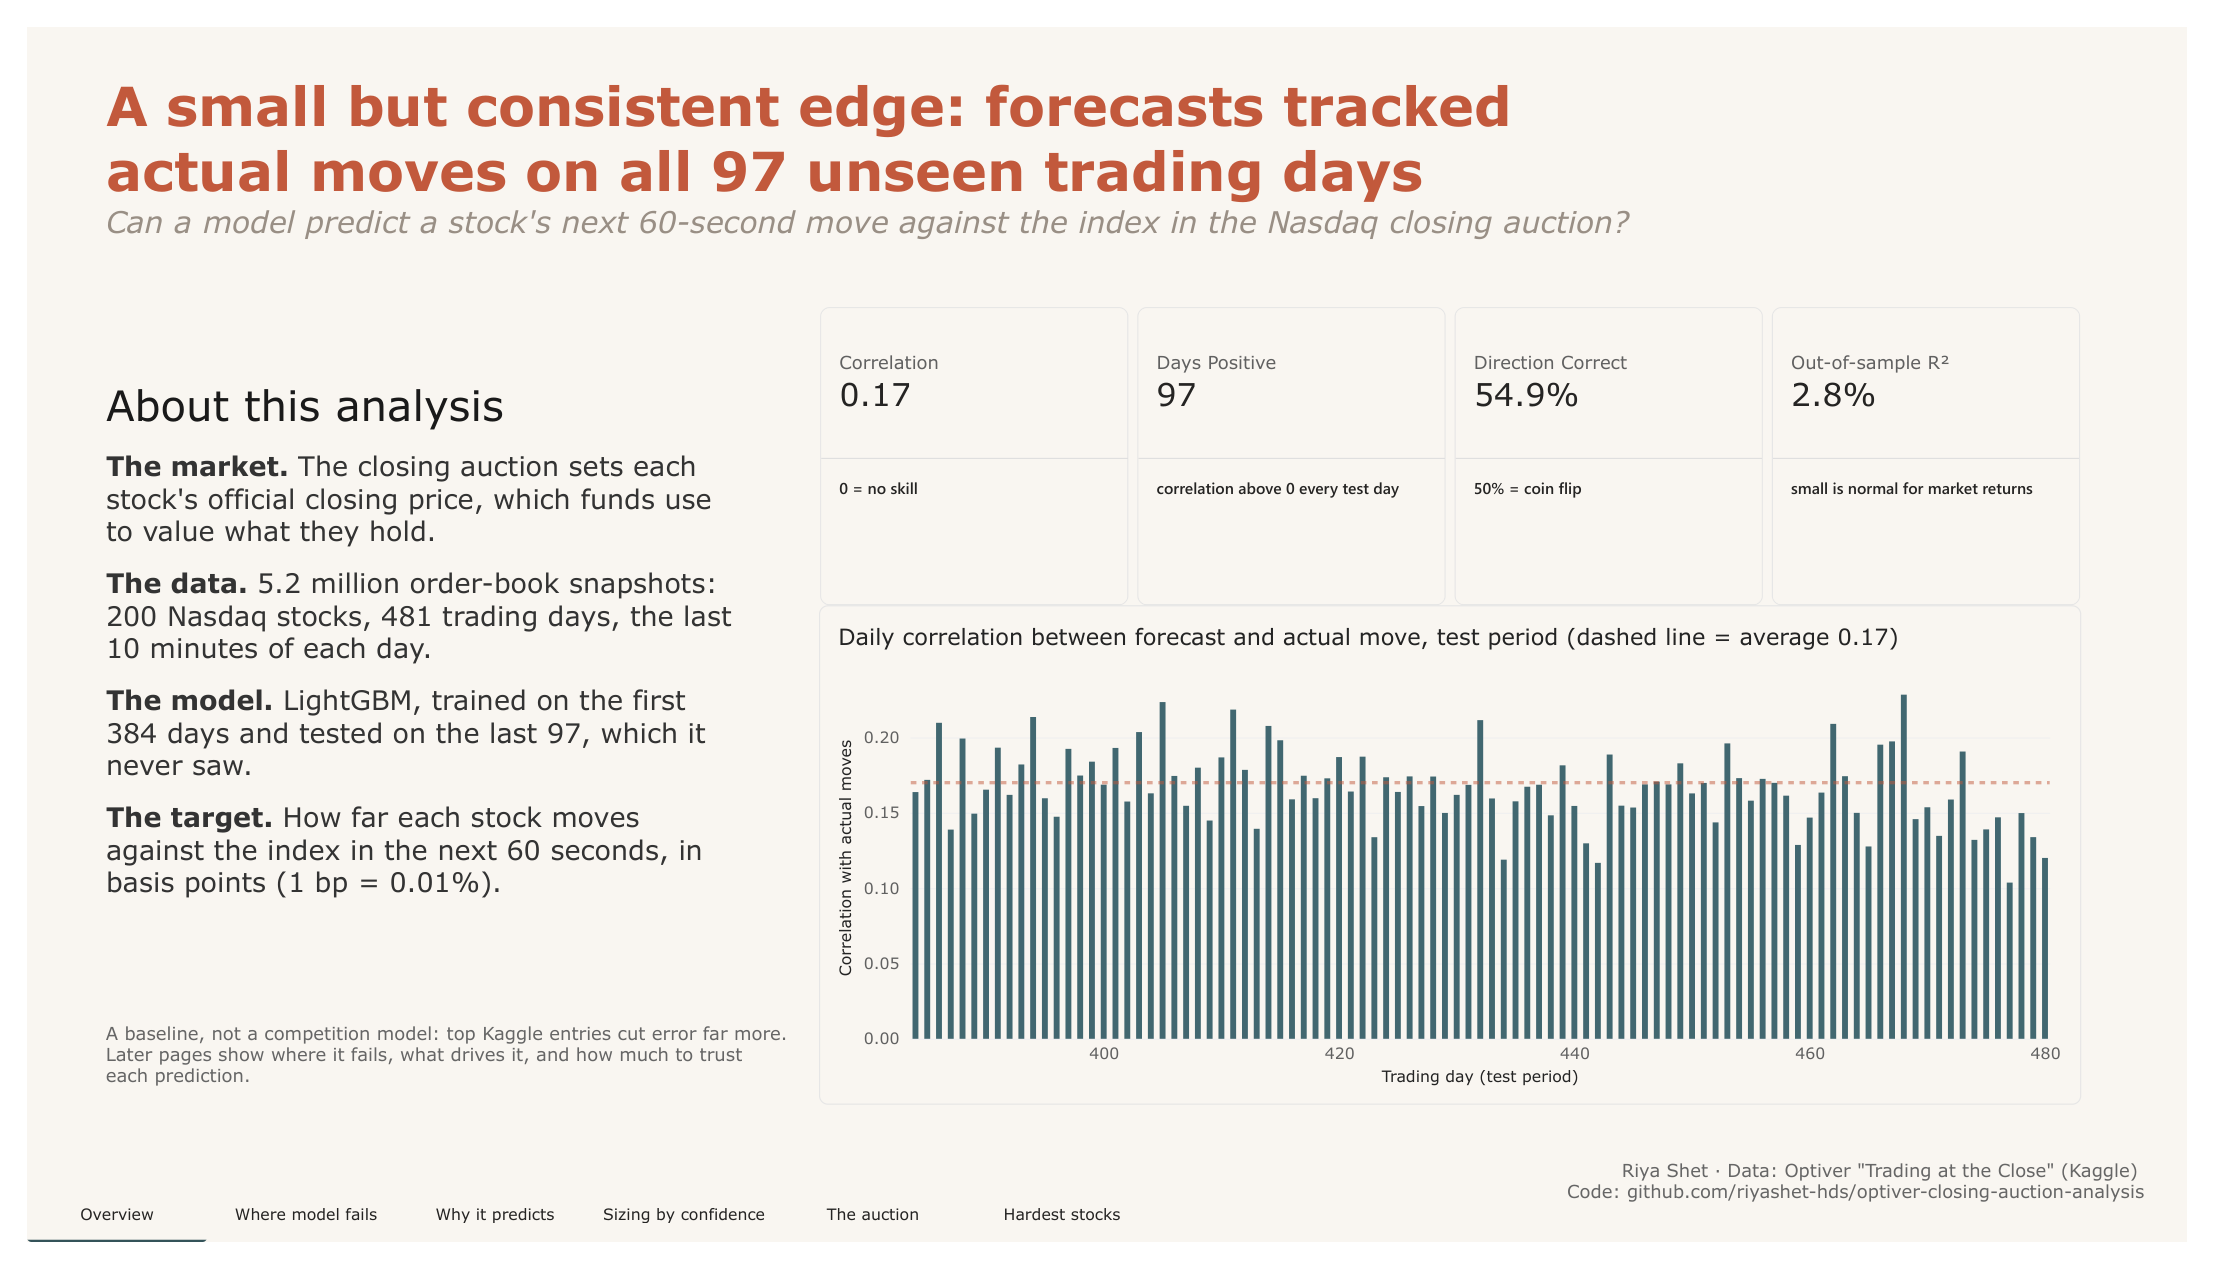

What the dashboard file says about the page in this screenshot:
{"tool":"powerbi","page":{"name":"Overview","canvas":[1920,1080],"ordinal":0},"visuals":[{"type":"columnChart","title":"Daily correlation between forecast and actual move, test period (dashed line = average 0.17)","fields":{"Category":["skill_by_day.date_id"],"Y":["Sum(skill_by_day.correlation)"]},"box":[704,514,1122,444],"z":0},{"type":"cardVisual","fields":{"Data":["skill_by_day.Skill Correlation","skill_by_day.Days Positive","skill_by_day.Hit Rate","skill_by_day.Skill R2"]},"box":[704.7,249.4,1121.5,265.1],"z":1000},{"type":"textbox","box":[70,40,1360,196],"z":2000},{"type":"textbox","box":[70,236,633,150],"z":3000},{"type":"textbox","box":[1346,1006,536,50],"z":4000},{"type":"textbox","box":[70,312,566,516],"z":5000},{"type":"pageNavigator","box":[0,1030,1000,50],"z":6000},{"type":"textbox","box":[70,884,608,74],"z":7000}]}

Visuals, with their boxes in screenshot pixels (x1, y1, x2, y2), scaled from the page's 1920x1080 canvas onto the 2214x1269 screenshot:
"Daily correlation between forecast and actual move, test period (dashed line = average 0.17)" columnChart: <region>812, 604, 2106, 1126</region>
cardVisual - skill_by_day.Skill Correlation x skill_by_day.Days Positive: <region>813, 293, 2106, 605</region>
textbox: <region>81, 47, 1649, 277</region>
textbox: <region>81, 277, 811, 454</region>
textbox: <region>1552, 1182, 2170, 1241</region>
textbox: <region>81, 367, 733, 973</region>
pageNavigator: <region>0, 1210, 1153, 1268</region>
textbox: <region>81, 1039, 782, 1126</region>
